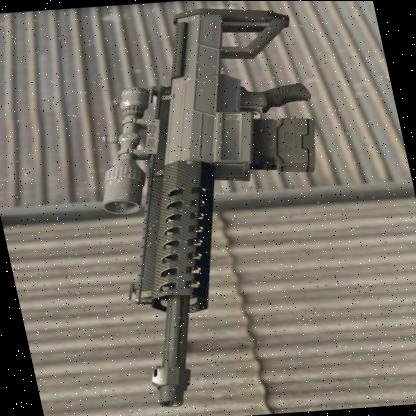rifle: (54, 2, 380, 412)
